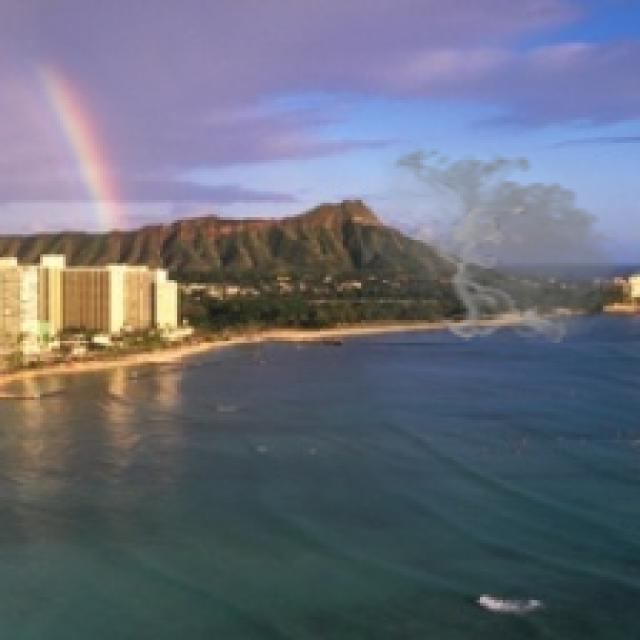Smoke: (360, 142, 637, 348)
